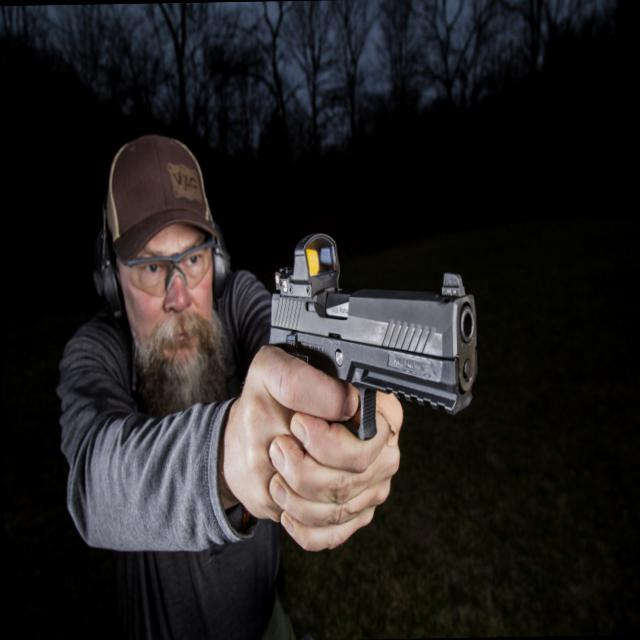handgun: (237, 214, 491, 453)
